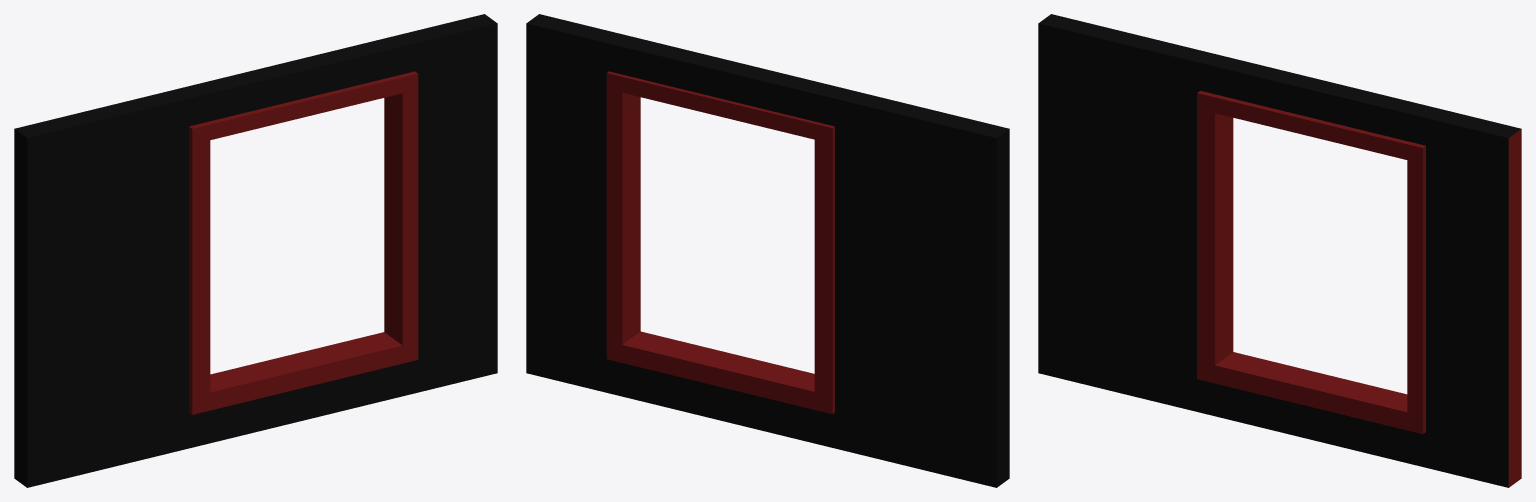
File: Back W Wall 1 - Right_Left.FBX
3 views of the same model, side by side, from view 1: azimuth 30°, elevation 25°; view 2: azimuth 150°, elevation 25°; view 3: azimuth 330°, elevation 25° (orthographic).
Visible parts, largest first — view 1: Object001; view 2: Object001; view 3: Object001.
Part boxes in pixels (x1,y1,x2,y2): Object001: (14, 14, 497, 487); Object001: (526, 14, 1009, 487); Object001: (1038, 14, 1521, 487).
Bounding box in the file's own units: 21.1 × 15 × 1.43.
